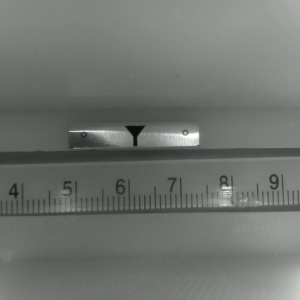4: (7, 184, 18, 198)
5: (62, 181, 72, 196)
6: (114, 178, 125, 194)
7: (166, 177, 176, 192)
8: (218, 176, 229, 191)
9: (269, 174, 278, 190)
finger: (123, 126, 145, 147)
